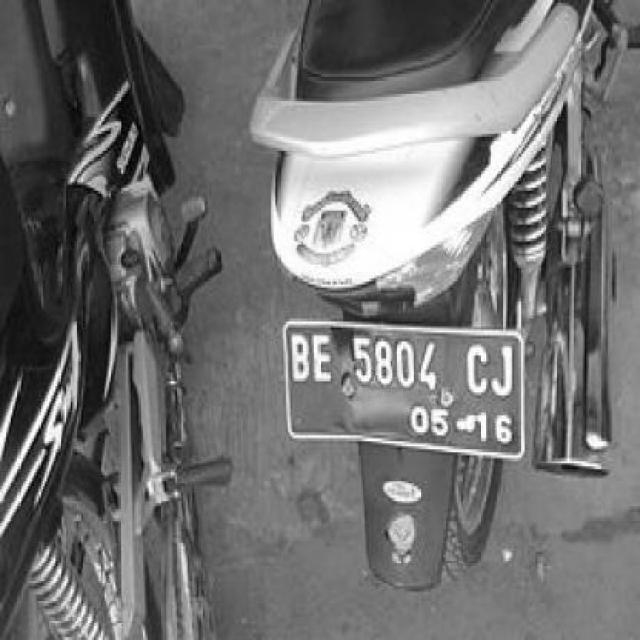0: (393, 334, 417, 398)
4: (420, 338, 440, 396)
5: (348, 332, 374, 384)
8: (373, 332, 393, 384)
B: (290, 333, 311, 384)
C: (466, 345, 491, 400), (496, 344, 512, 398)
E: (311, 332, 336, 384)
